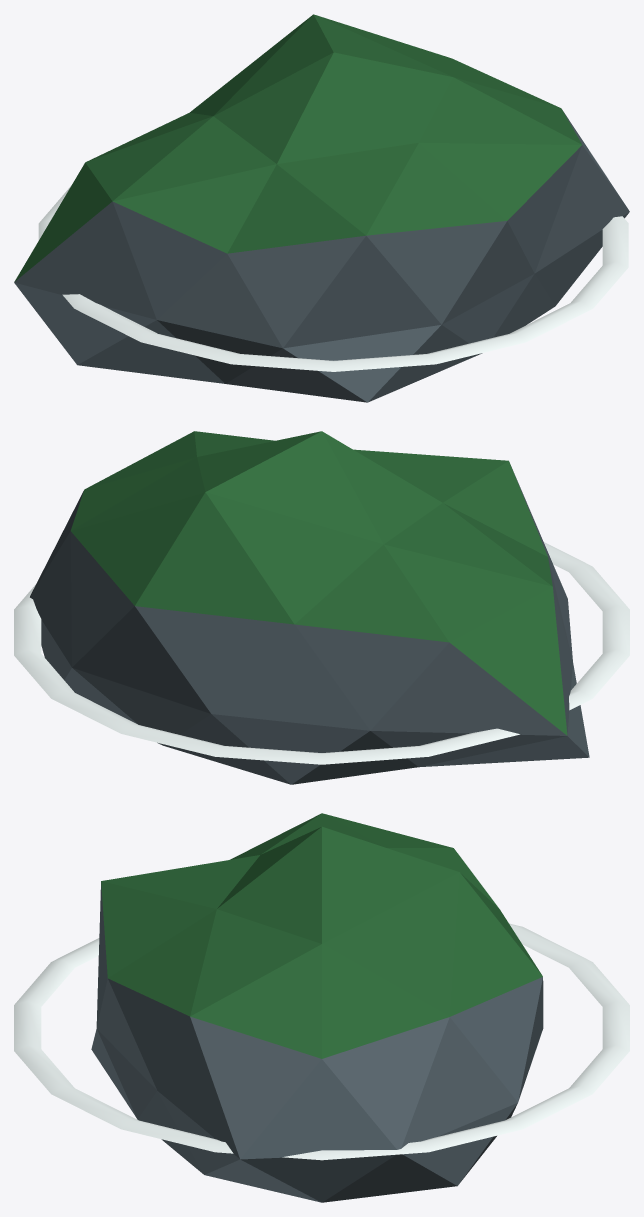
Rendered from W2_Rock_A.fbx.
The picture shows the model from 3 angles, top to bottom: view 1: azimuth 30°, elevation 25°; view 2: azimuth 150°, elevation 25°; view 3: azimuth 270°, elevation 25°; orthographic projection. The views are drawn at different scales.
Visible parts, largest first — view 1: W2_Rock_A; view 2: W2_Rock_A; view 3: W2_Rock_A.
Part boxes in pixels (box(x1,y1,x2,y2)): W2_Rock_A: box(14, 14, 629, 402); W2_Rock_A: box(14, 431, 629, 784); W2_Rock_A: box(14, 813, 629, 1202).
Bounding box in the file's own units: 5.63 × 2.54 × 5.36.
